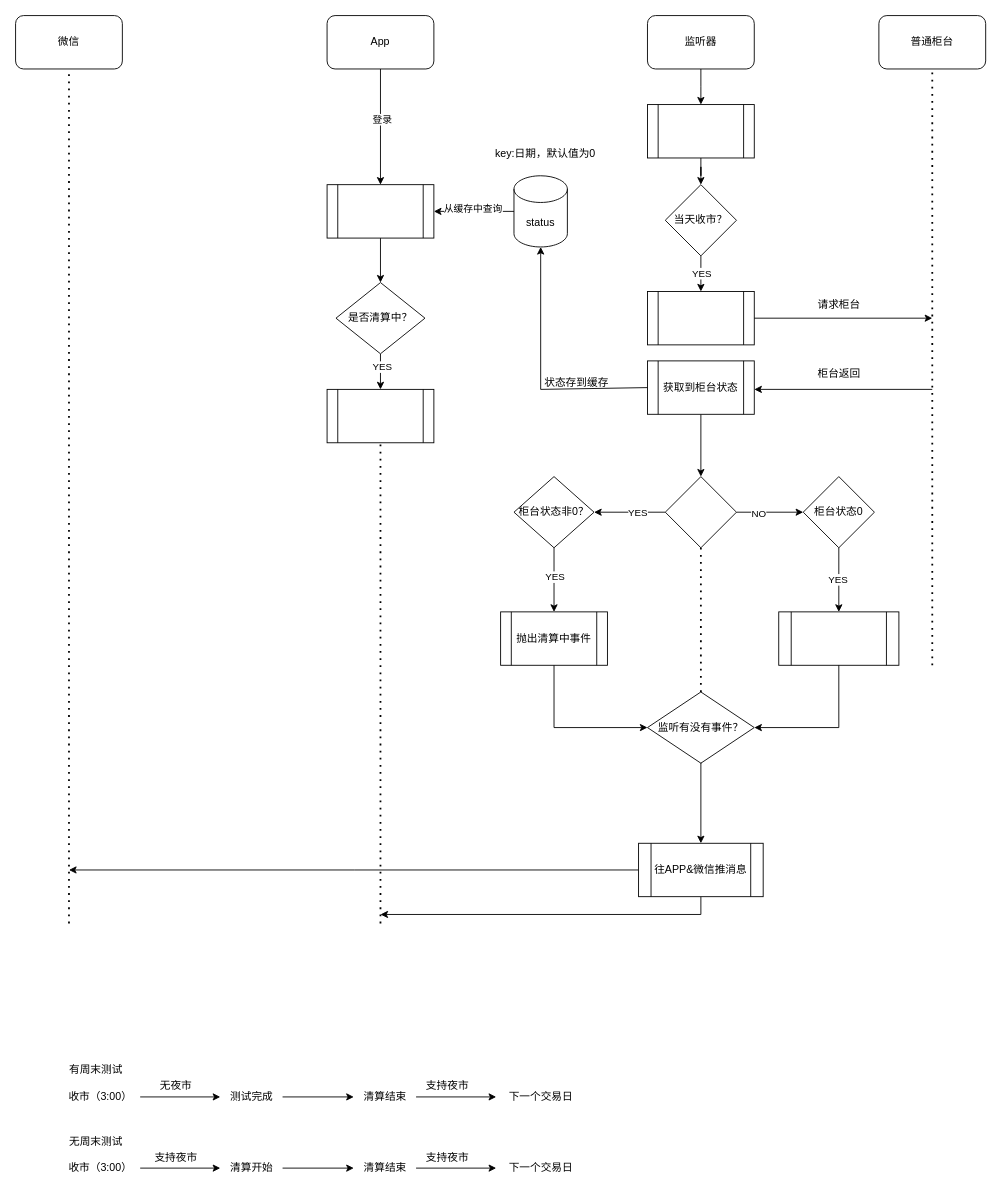
Image size: 1001x1197. Some labels were removed from this diagram. The box of each missing label's shape, as (x1, y1, x2, y2) in pixels:
20S定时轮询: (647, 291, 754, 345)
上次状态0？: (664, 476, 736, 548)
抛出清算结束事件: (778, 611, 899, 665)
提示用户: (326, 388, 434, 443)
登录逻辑: (326, 184, 434, 238)
获取缓存状态: (647, 104, 754, 158)
